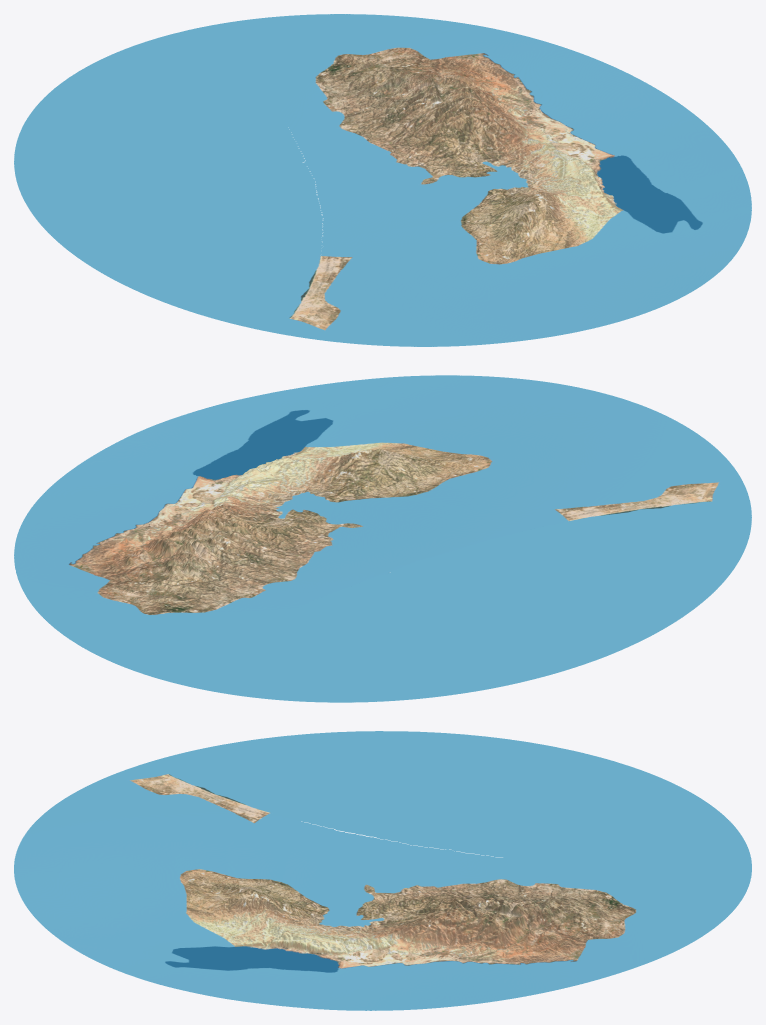
File: PSX-previa-terrain.glb
3 views of the same model, one above another, from view 1: azimuth 30°, elevation 25°; view 2: azimuth 150°, elevation 25°; view 3: azimuth 270°, elevation 25° (orthographic). The views are drawn at different scales.
Parts seen in each view (by area): view 1: Palestina; view 2: Palestina; view 3: Palestina.
Boxes of the visible parts, bbox=[...] form: Palestina: bbox=[14, 14, 751, 346]; Palestina: bbox=[14, 375, 751, 702]; Palestina: bbox=[14, 731, 751, 1010].
Bounding box in the file's own units: 2.24 × 0.0961 × 2.56.
Materials: 1 (1 with a texture image).
